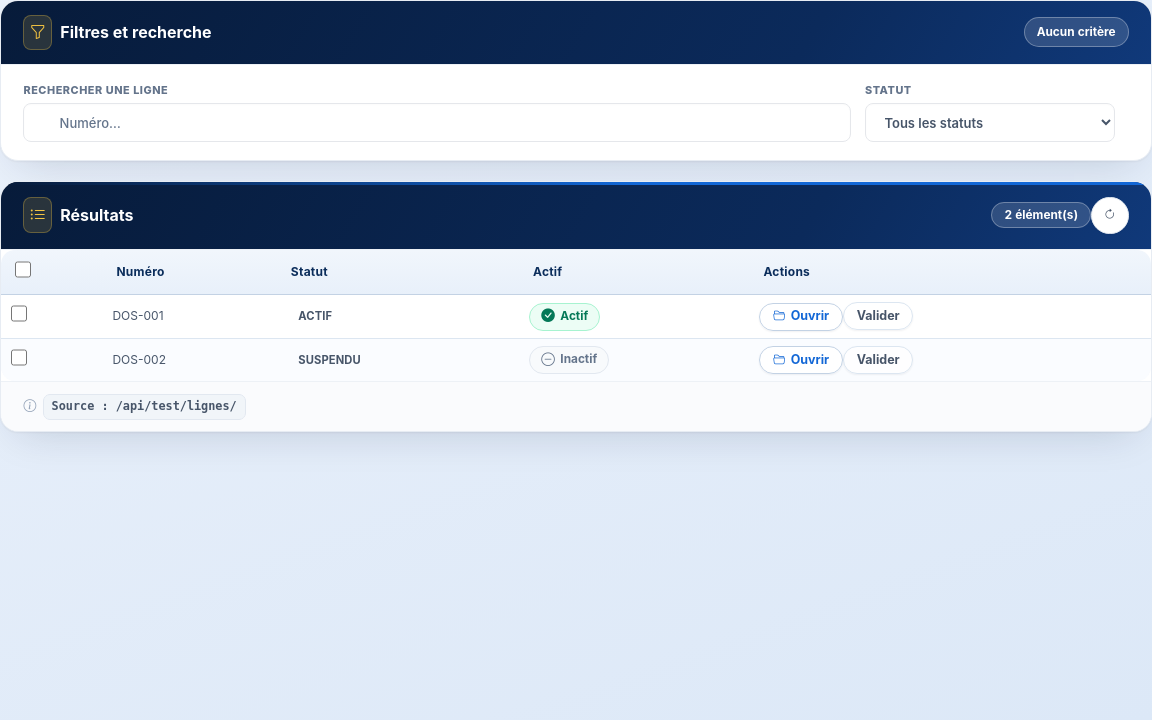
Test: sélection des lignes de la page › permet de cocher plusieurs lignes, tout sélectionner et tout désélectionner sans action serveur
Check: the text "DOS-001" is shown, box [103,295,277,339]
Click the checkbox named "Sélectionner la ligne DOS-001": (19, 314) [11,305,27,322]
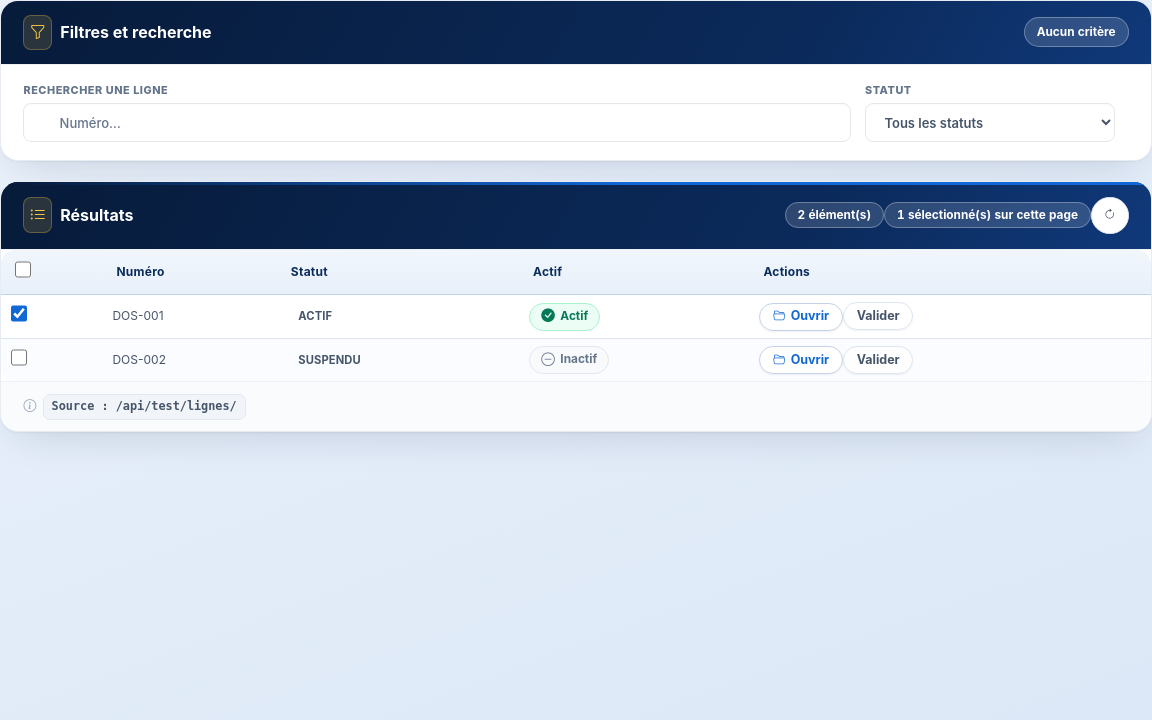
Check: the checkbox named "Sélectionner la ligne DOS-002" is not checked, box [11,349,27,366]
Check: the checkbox named "Sélectionner la ligne DOS-001" is checked, box [11,305,27,322]
Click the checkbox named "Tout sélectionner (page affichée)": (23, 269) [15,261,31,278]
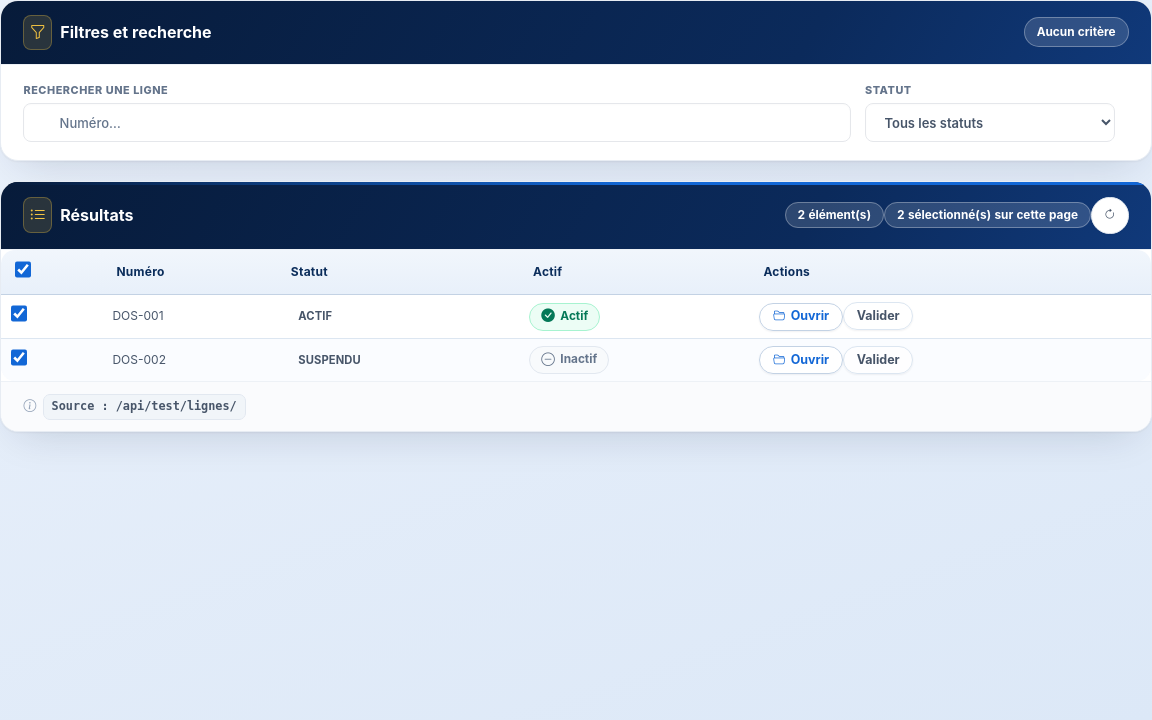
Check: the checkbox named "Sélectionner la ligne DOS-001" is checked, box [11,305,27,322]
Check: the checkbox named "Sélectionner la ligne DOS-002" is checked, box [11,349,27,366]
Click the checkbox named "Tout sélectionner (page affichée)": (23, 269) [15,261,31,278]
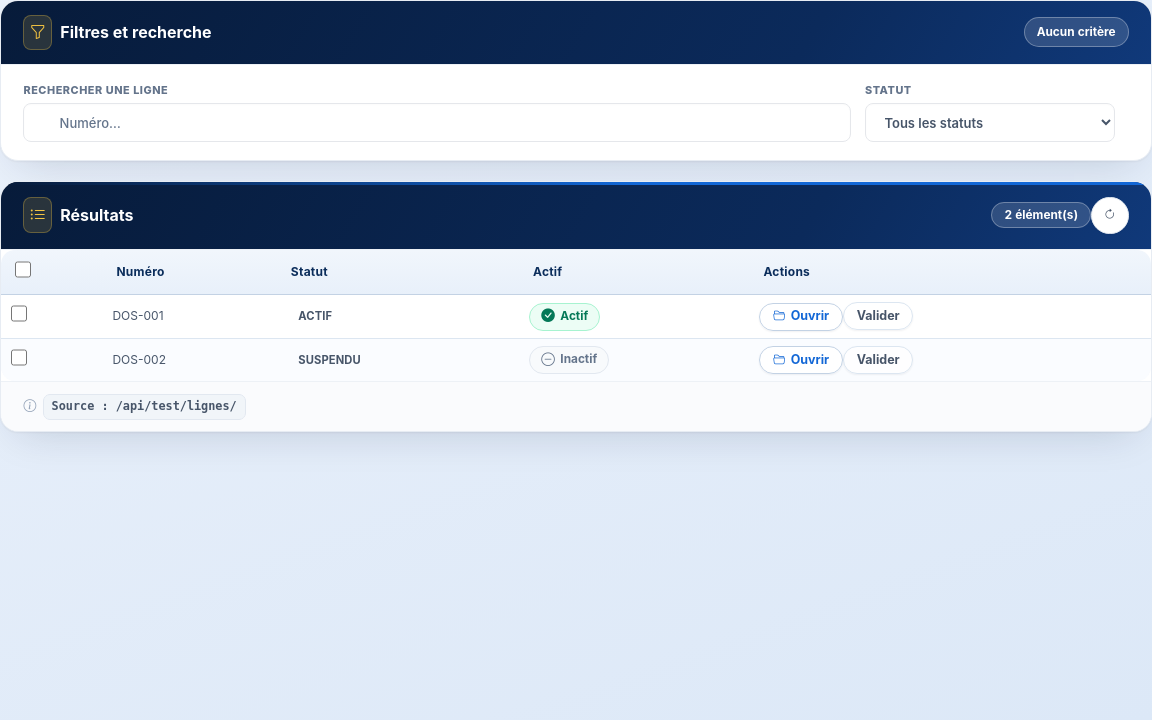
Check: the checkbox named "Sélectionner la ligne DOS-001" is not checked, box [11,305,27,322]
Check: the checkbox named "Sélectionner la ligne DOS-002" is not checked, box [11,349,27,366]
